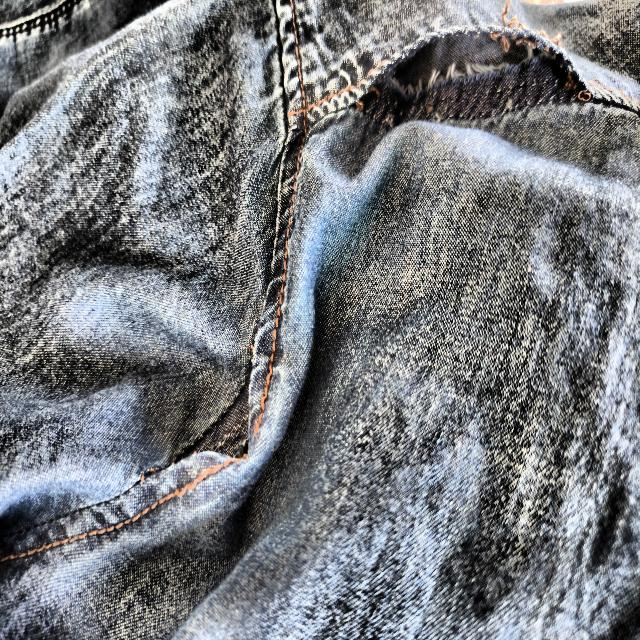seam: (342, 13, 608, 130)
